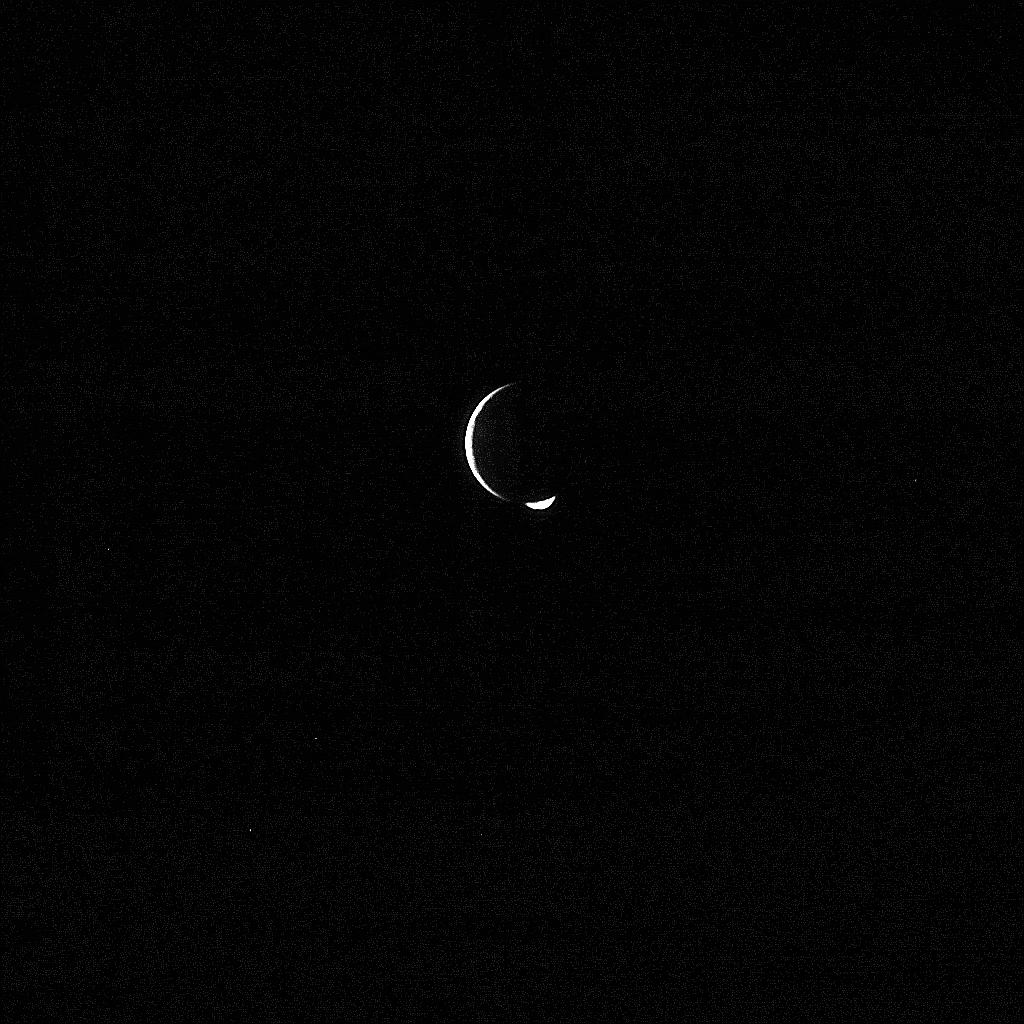plumes: (523, 494, 556, 511)
